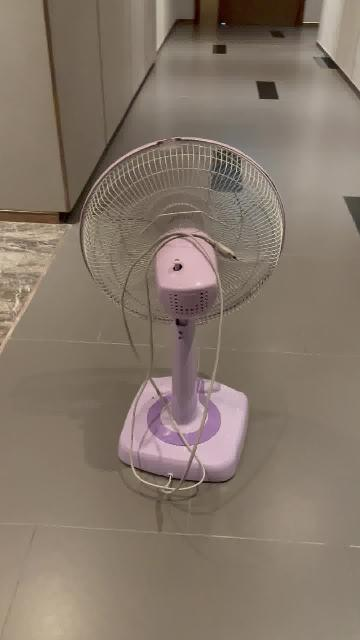Fan: (79, 137, 285, 484)
